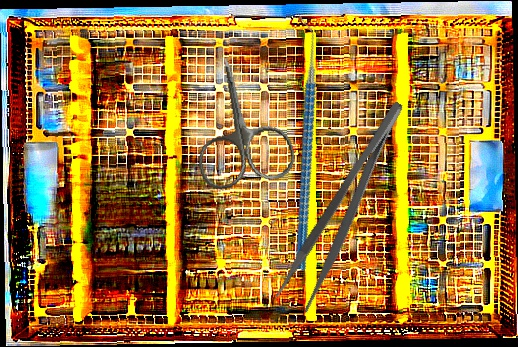Chopper: (210, 14, 393, 272)
Dressing Forceps: (271, 97, 426, 316)
Iris Scissors: (179, 49, 299, 193)
